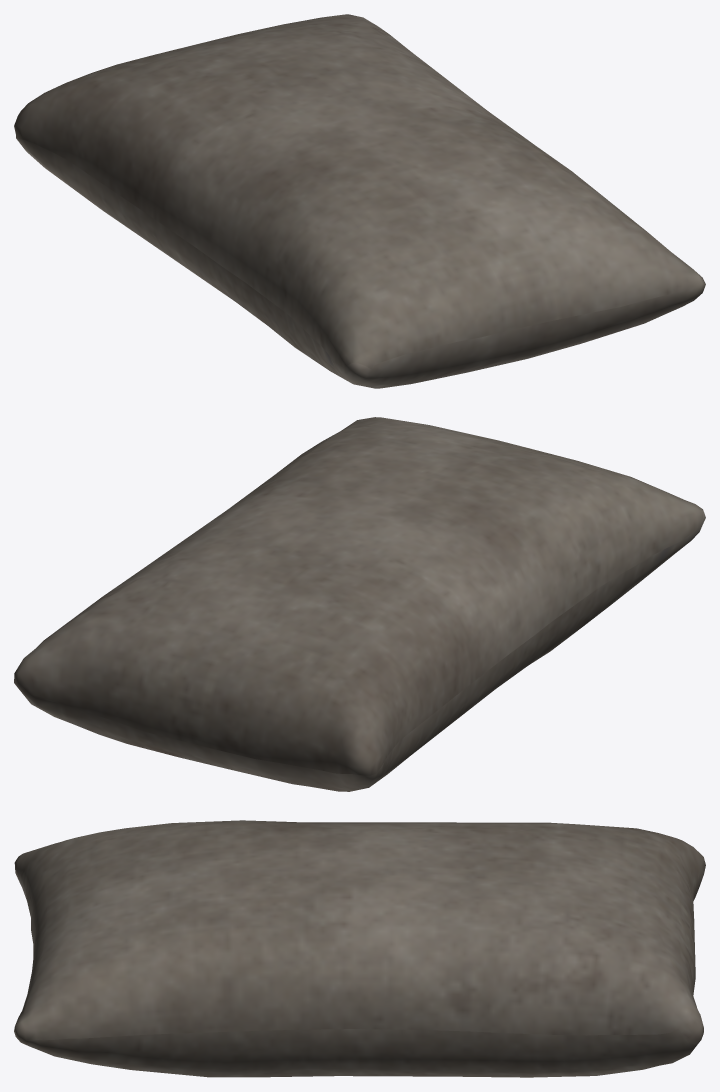
File: SM_Pillow.fbx
3 renders of one model, top to bottom at view 1: azimuth 30°, elevation 25°; view 2: azimuth 150°, elevation 25°; view 3: azimuth 270°, elevation 25°, orthographic.
Visible parts, largest first — view 1: SM_Pillow_LOD0; view 2: SM_Pillow_LOD0; view 3: SM_Pillow_LOD0.
Boxes of the visible parts, x1=… form: SM_Pillow_LOD0: x1=14, y1=14, x2=705, y2=388; SM_Pillow_LOD0: x1=14, y1=417, x2=705, y2=791; SM_Pillow_LOD0: x1=14, y1=820, x2=705, y2=1077.
Bounding box in the file's own units: 49.08 × 81.26 × 23.2.
Materials: 1 (1 with a texture image).
